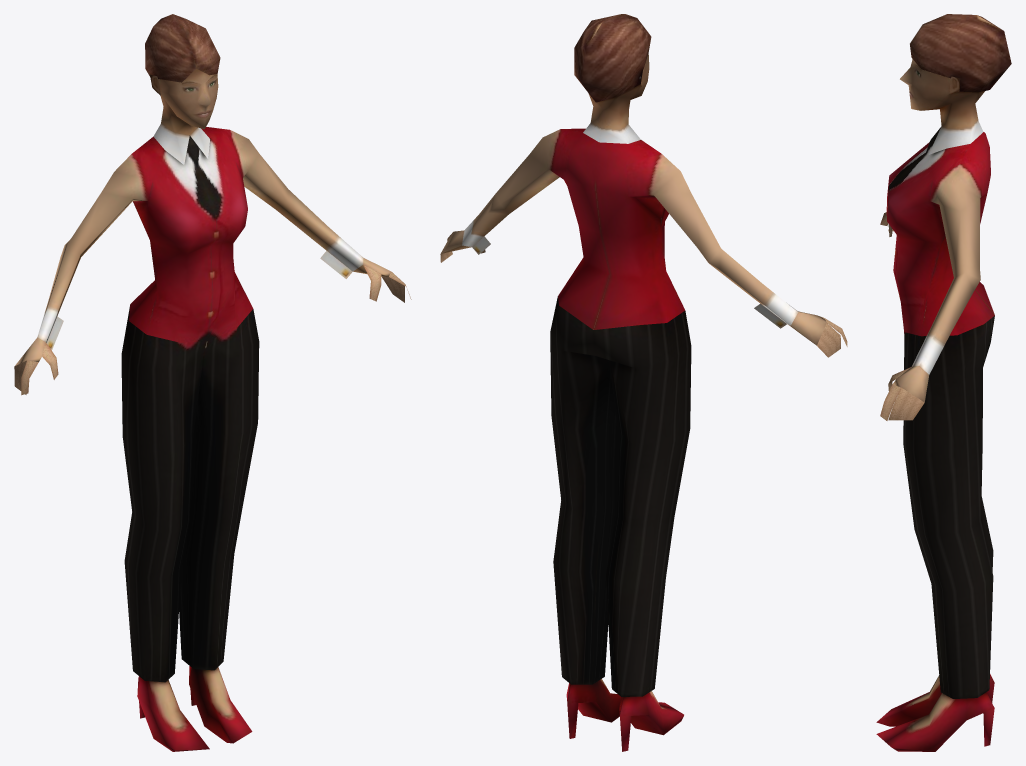
File: femka.gltf
The picture shows the model from 3 angles, left to right: view 1: azimuth 30°, elevation 25°; view 2: azimuth 150°, elevation 25°; view 3: azimuth 270°, elevation 25°; orthographic projection. The views are drawn at different scales.
Parts seen in each view (by area): view 1: Mesh; view 2: Mesh; view 3: Mesh.
Part boxes in pixels (<box>): Mesh: <box>14,14,411,751</box>; Mesh: <box>440,14,847,751</box>; Mesh: <box>876,14,1011,751</box>.
Bounding box in the file's own units: 1.07 × 1.84 × 0.3149.
1 material, 1 textured.
